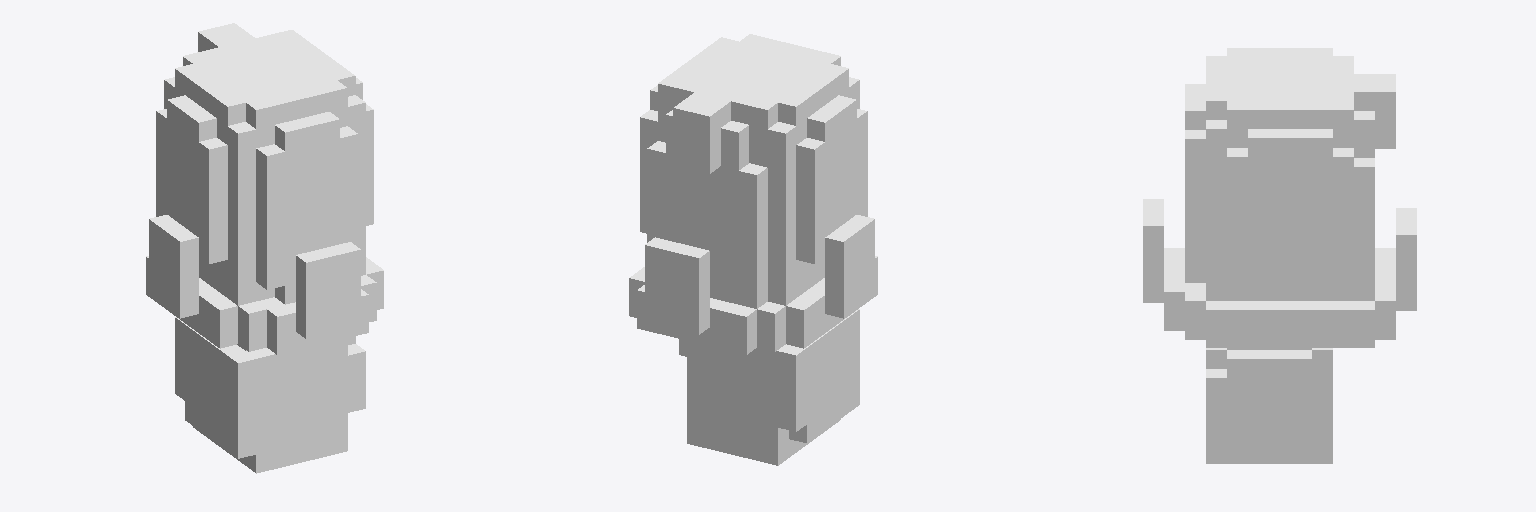
File: Minotaur1-9.obj
The picture shows the model from 3 angles: view 1: azimuth 30°, elevation 25°; view 2: azimuth 150°, elevation 25°; view 3: azimuth 270°, elevation 25°; orthographic projection.
Visible parts, largest first — view 1: object 1; view 2: object 1; view 3: object 1.
Part boxes in pixels (bbox=[...]): object 1: bbox=[146, 23, 383, 473]; object 1: bbox=[629, 34, 877, 465]; object 1: bbox=[1143, 48, 1416, 463].
Bounding box in the file's own units: 1 × 1.9 × 1.3.